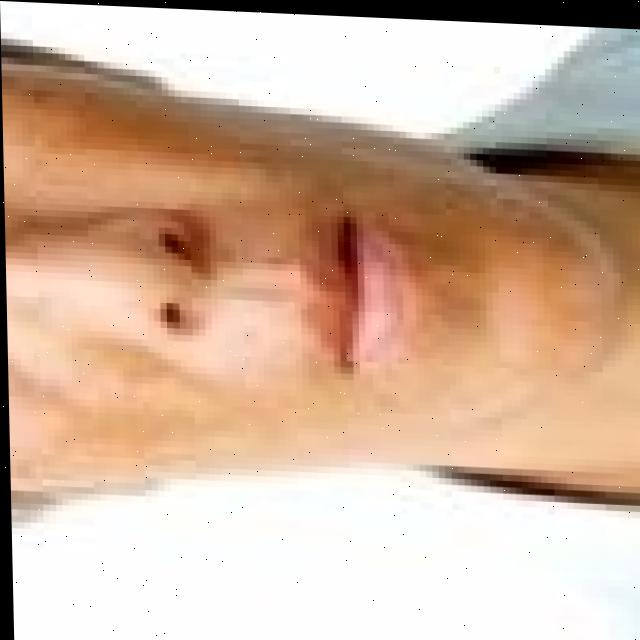Melasma: (381, 174, 551, 375), (51, 375, 246, 505), (51, 98, 204, 161)
